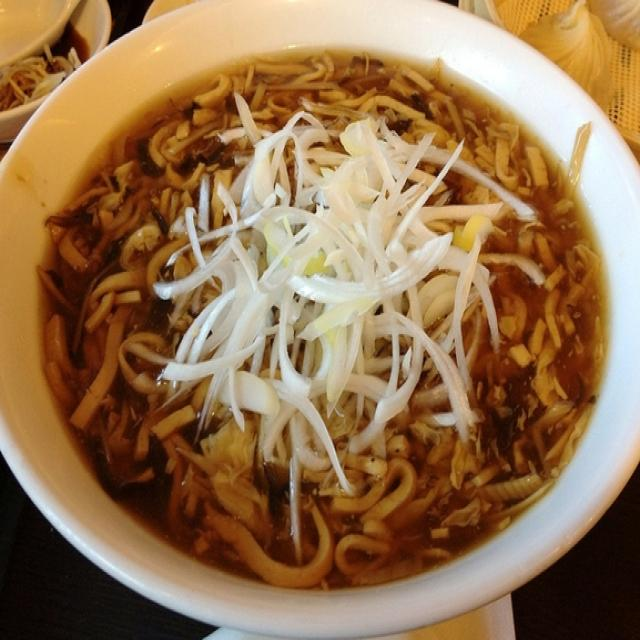面条主食: (26, 47, 574, 578)
